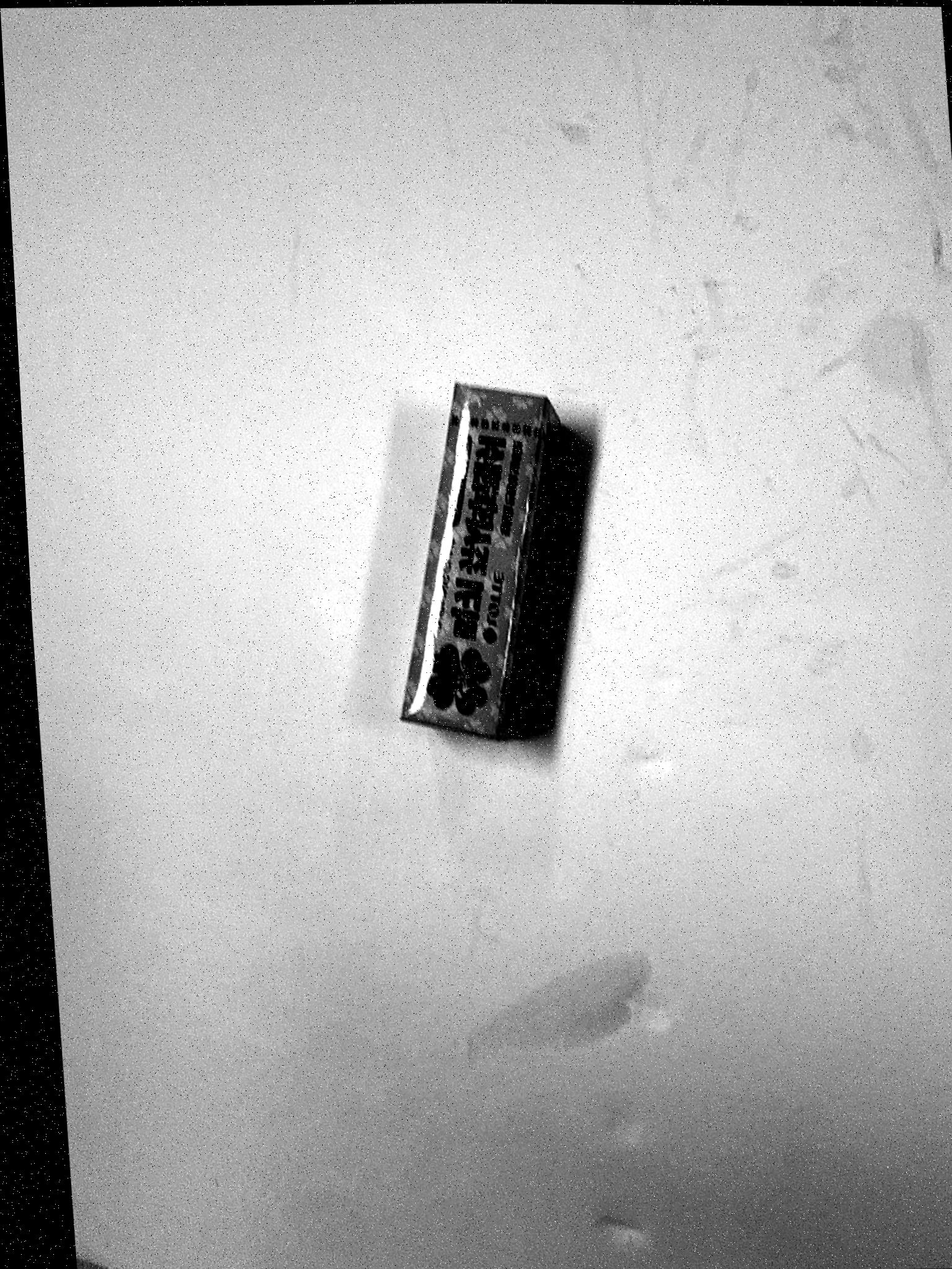gum_yellow: (402, 384, 560, 740)
